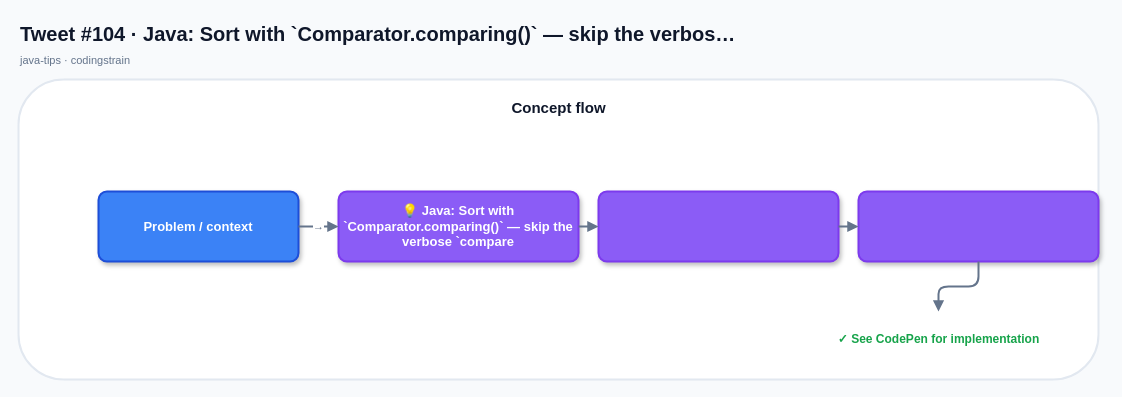
Image size: 1122x397. Some labels were removed from this diagram. Here are the shapes that lost their labels. From the top down, the centre of each, then its label:
At (719,227): "Sort by a field in one line".
At (979,227): "Chain `.thenComparing(...)` for tie-breakers".
